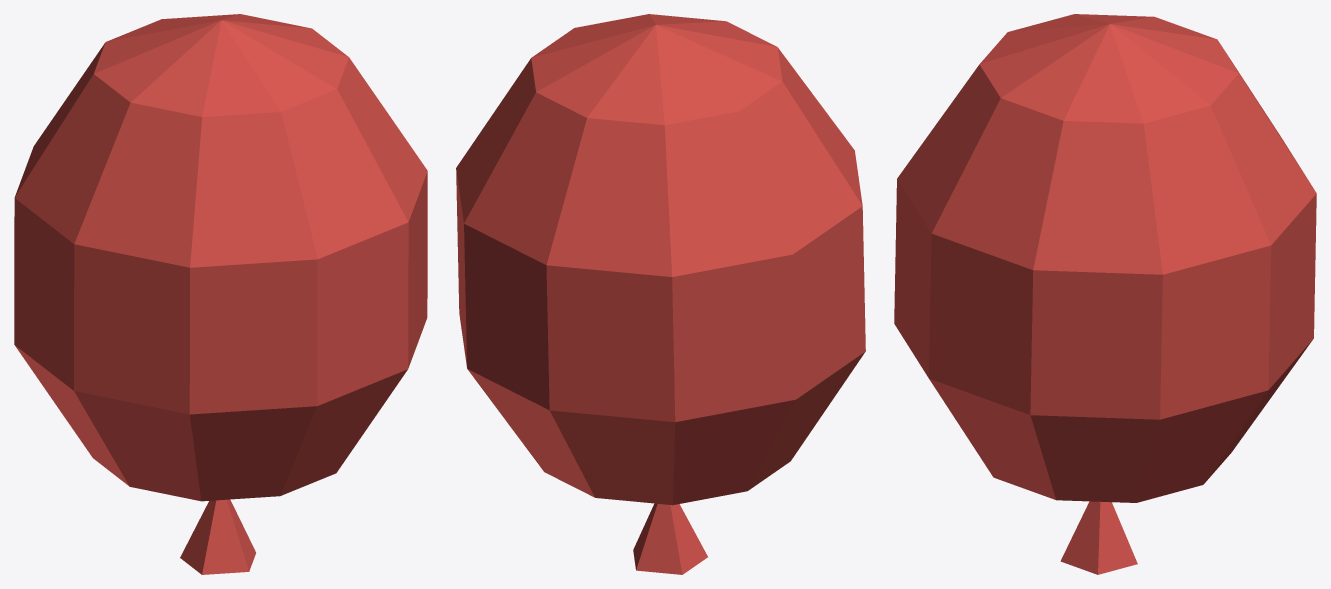
File: balloon_red.fbx
The picture shows the model from 3 angles, left to right: view 1: azimuth 30°, elevation 25°; view 2: azimuth 150°, elevation 25°; view 3: azimuth 270°, elevation 25°; orthographic projection.
Parts seen in each view (by area): view 1: balloon_red; view 2: balloon_red; view 3: balloon_red.
Part boxes in pixels (bbox=[...]): balloon_red: bbox=[14, 14, 427, 574]; balloon_red: bbox=[456, 14, 865, 574]; balloon_red: bbox=[894, 14, 1316, 574].
Size of the model in its own units: 359 by 523 by 373.
Materials: 1 (1 with a texture image).
